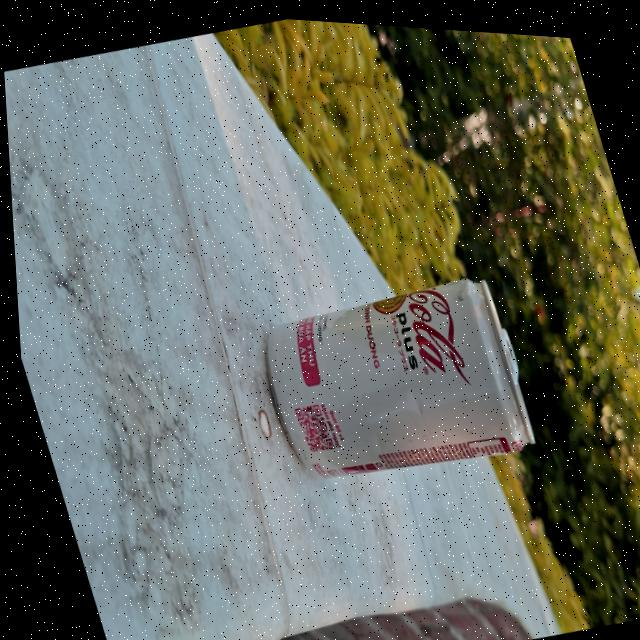Coca Cola Plus: (242, 242, 541, 506)
